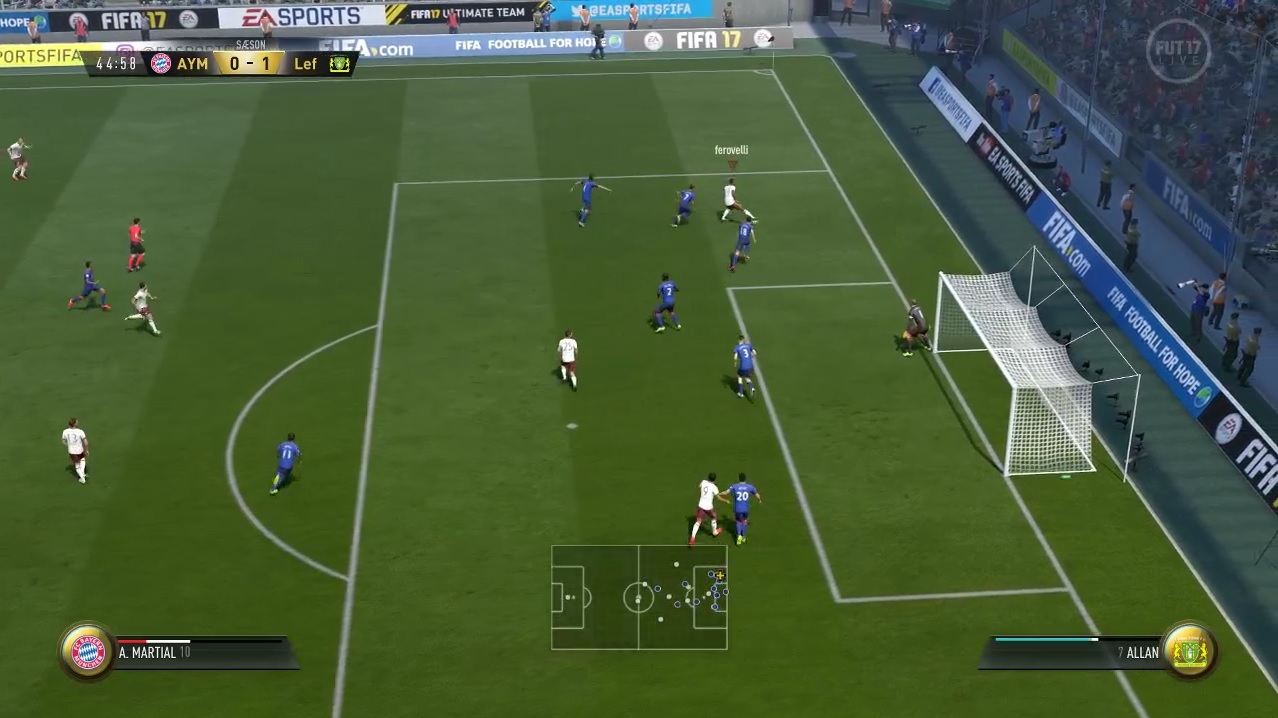goal: (935, 271, 1135, 483)
player: (69, 259, 114, 311), (692, 471, 725, 538), (128, 280, 166, 334), (733, 334, 763, 399), (63, 416, 92, 483), (899, 299, 934, 354), (276, 434, 307, 493), (576, 172, 611, 224), (732, 471, 758, 540), (653, 271, 683, 330), (556, 330, 582, 387), (722, 178, 753, 222), (8, 133, 34, 180), (676, 182, 700, 229), (735, 219, 757, 267)
